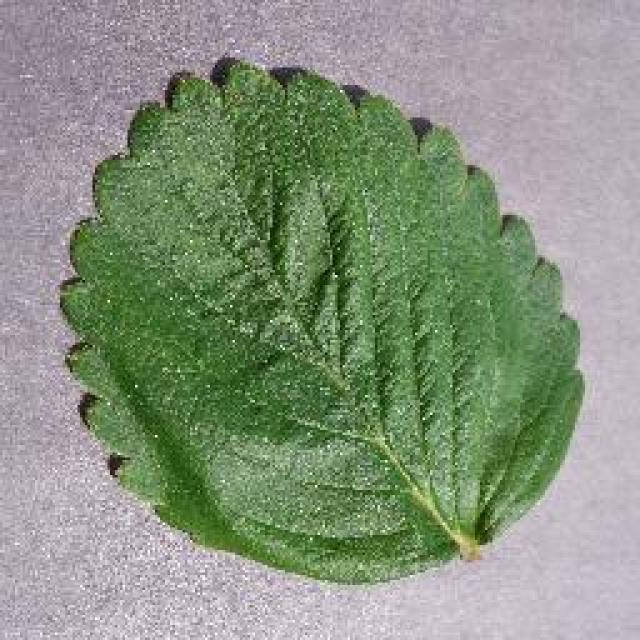Strawberry___healthy: (45, 38, 597, 608)
